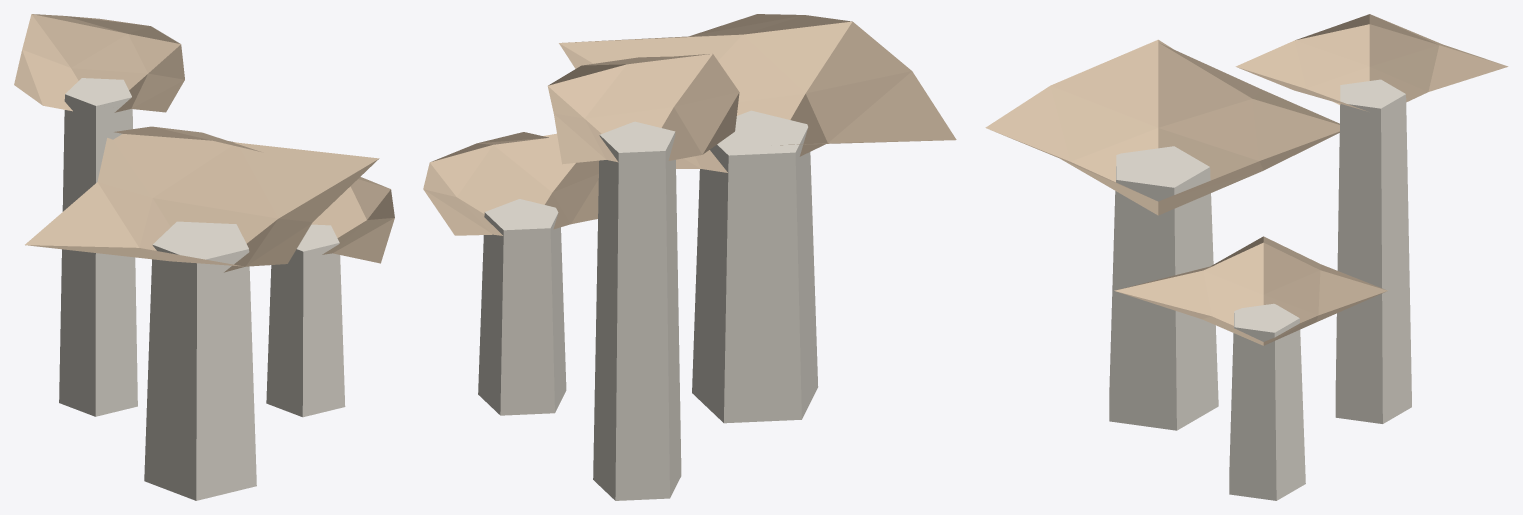
Rendered from mushroom_v29.glb.
3 views of the same model, side by side, from view 1: azimuth 30°, elevation 25°; view 2: azimuth 150°, elevation 25°; view 3: azimuth 270°, elevation 25° (orthographic). The views are drawn at different scales.
Parts seen in each view (by area): view 1: lod0; view 2: lod0; view 3: lod0.
Boxes of the visible parts, x1,y1,x2,y2 form: lod0: [14, 14, 394, 500]; lod0: [423, 14, 956, 500]; lod0: [985, 14, 1508, 500].
Size of what is drawn, in the model's own units: 0.483 by 0.4197 by 0.5153.
